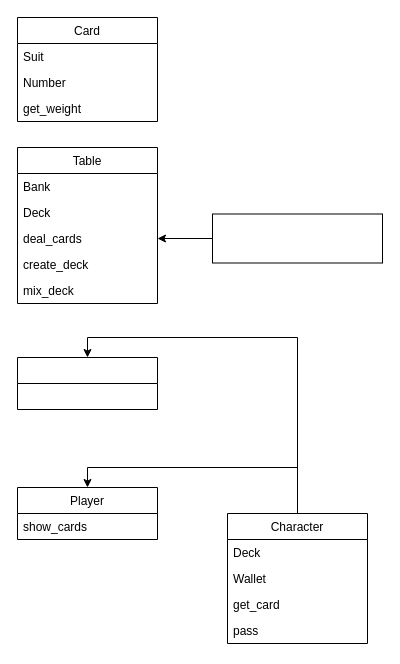
Some shapes in this 400 by 664 pixel diagram are drawn without their labels. The shapes that lost their labels are listed below. From the top down, each one's centre as x and y in pixels, then its label:
At (297,238): "mix deck and give cards for player and dealer".
At (87,383): "Dealer".
